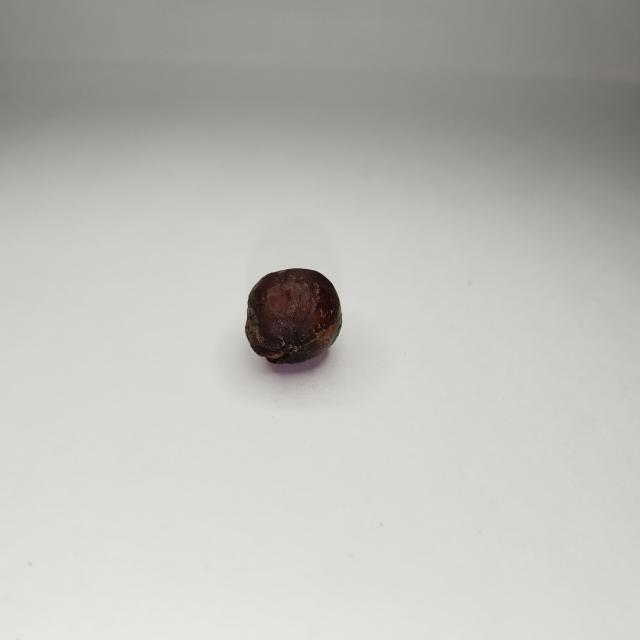Danado: (247, 268, 341, 364)
